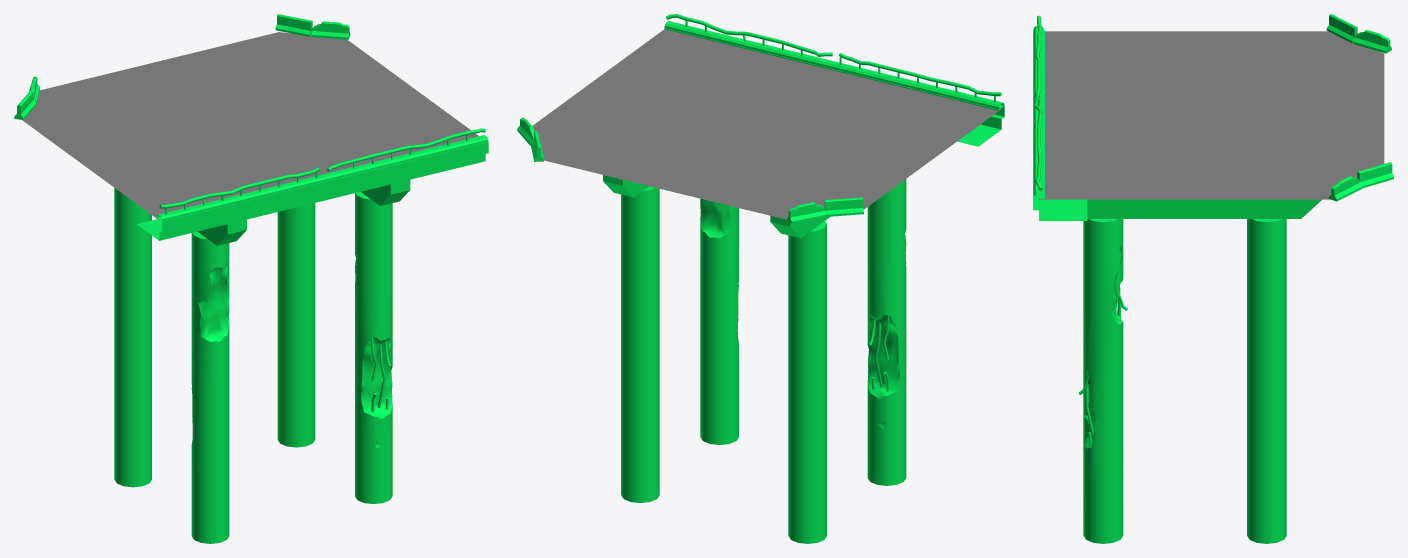
The model's file is Track_Asphalt_08.fbx.
The picture shows the model from 3 angles, left to right: view 1: azimuth 30°, elevation 25°; view 2: azimuth 150°, elevation 25°; view 3: azimuth 270°, elevation 25°; orthographic projection. The views are drawn at different scales.
Parts seen in each view (by area): view 1: Track_Asphalt_08, Road; view 2: Track_Asphalt_08, Road; view 3: Road, Track_Asphalt_08.
Part boxes in pixels (bbox=[...]): Track_Asphalt_08: bbox=[14, 14, 488, 543]; Road: bbox=[22, 32, 478, 220]; Track_Asphalt_08: bbox=[517, 14, 1004, 543]; Road: bbox=[532, 29, 1001, 219]; Road: bbox=[1039, 31, 1384, 199]; Track_Asphalt_08: bbox=[1033, 14, 1393, 543].
Size of what is drawn, in the model's own units: 3098 by 2718 by 3276.
